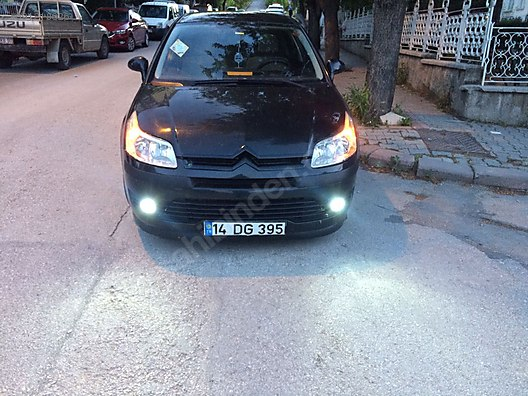citroen: (122, 9, 358, 239)
